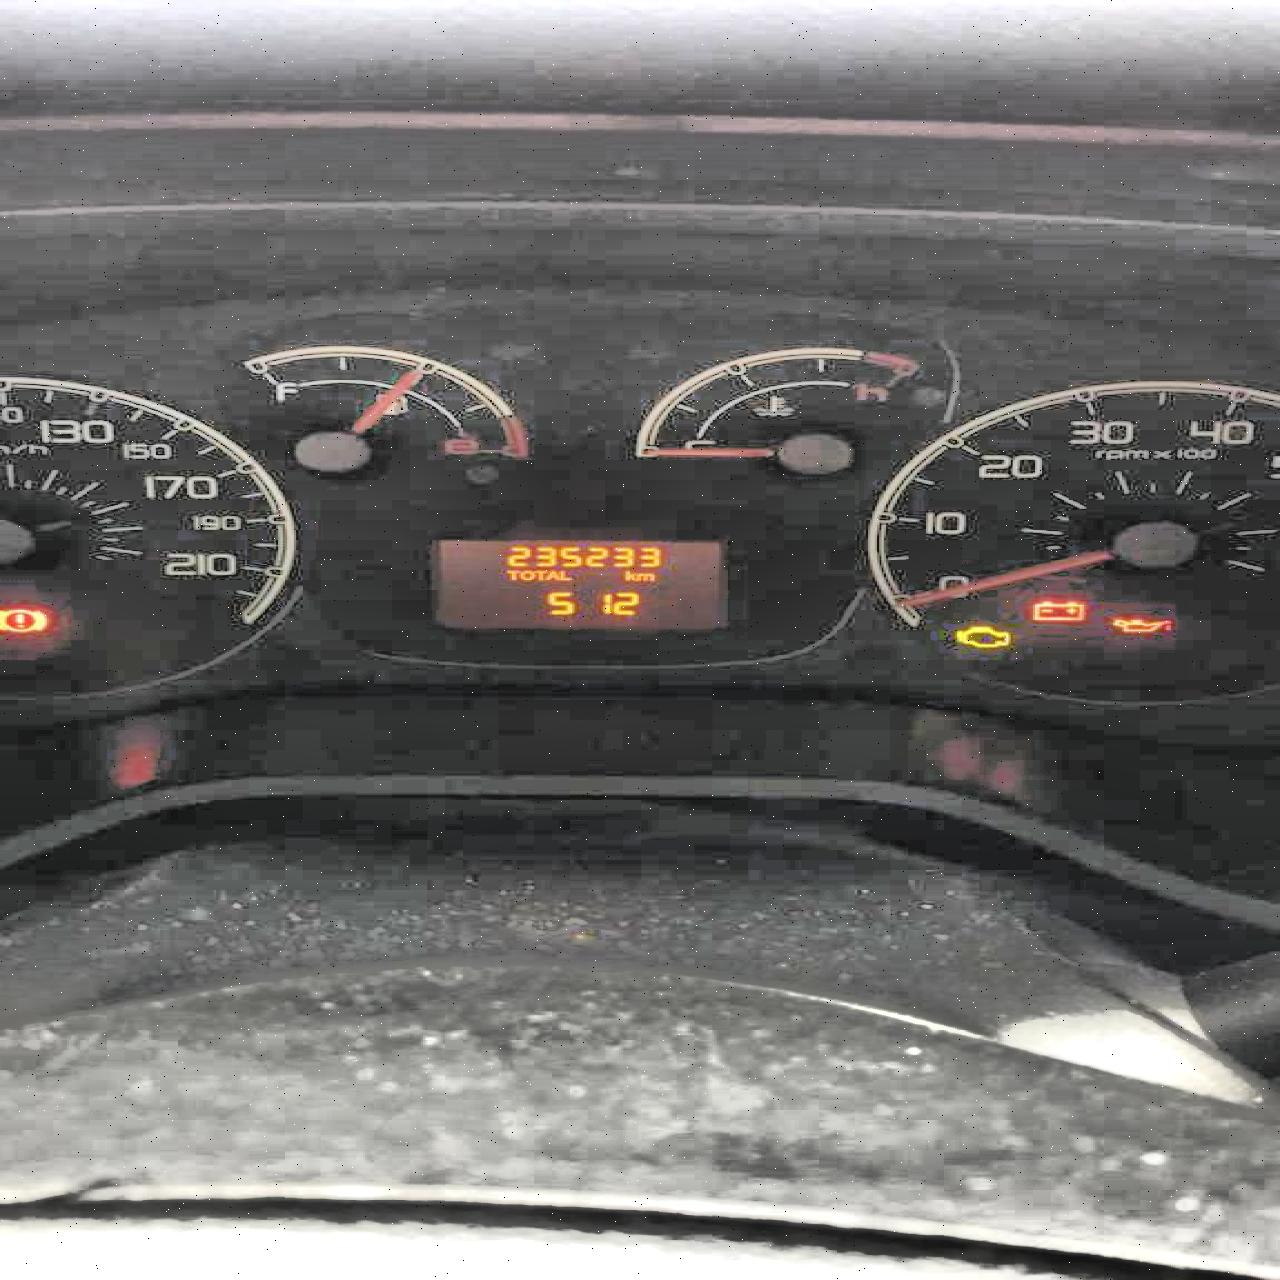1: (599, 590, 610, 615)
2: (612, 590, 639, 615), (503, 545, 530, 566), (584, 545, 606, 566)
3: (636, 545, 661, 566), (532, 545, 554, 566), (612, 545, 632, 566)
5: (540, 588, 574, 615), (557, 545, 581, 566)
X: (634, 570, 654, 580), (516, 568, 532, 580), (503, 567, 517, 580), (557, 568, 572, 580), (532, 568, 545, 580), (545, 568, 557, 580), (624, 568, 633, 581)
odometer: (428, 532, 730, 633)
